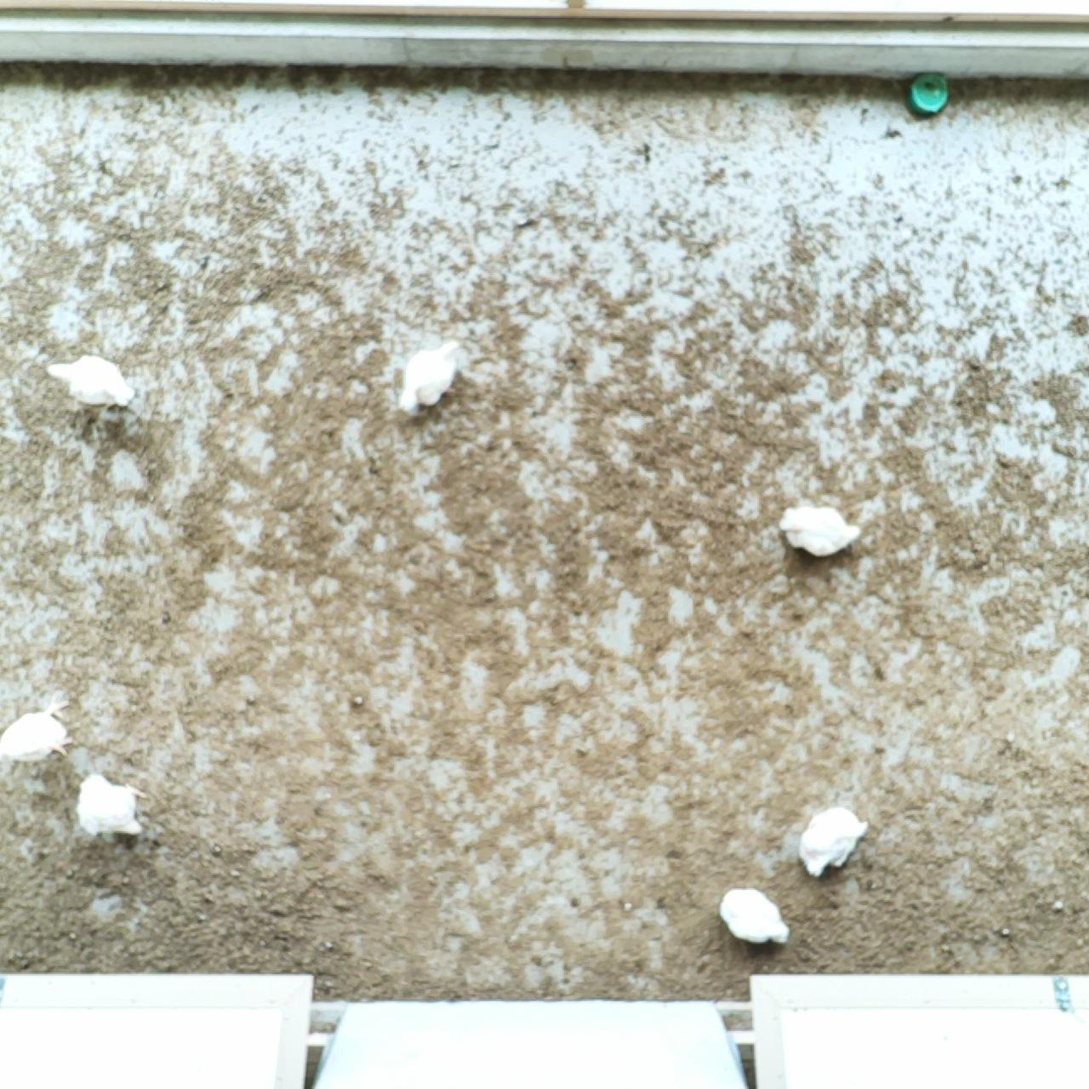chicken: (790, 802, 873, 885), (44, 349, 139, 418), (0, 687, 80, 768), (392, 337, 470, 417), (714, 881, 793, 954), (75, 769, 151, 844), (776, 501, 863, 563)
